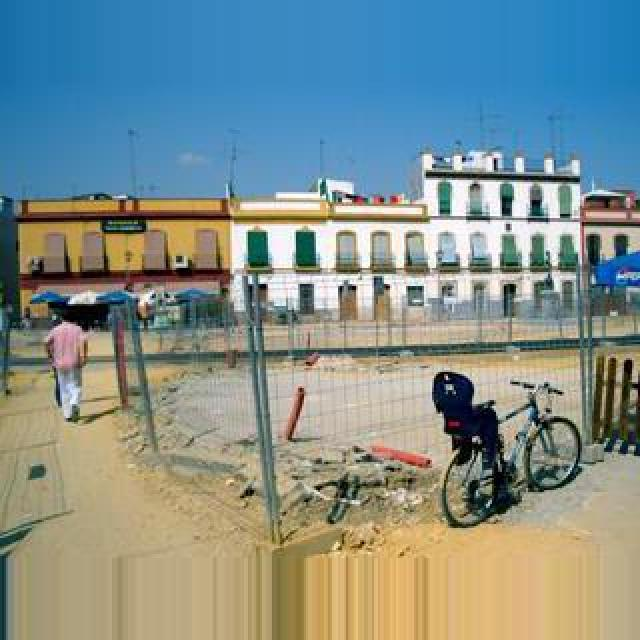MC-Bike: (46, 306, 88, 422)
Person: (436, 378, 584, 526)
